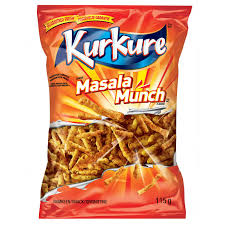kurkure: (59, 23, 171, 70)
plastic: (37, 3, 189, 217)
